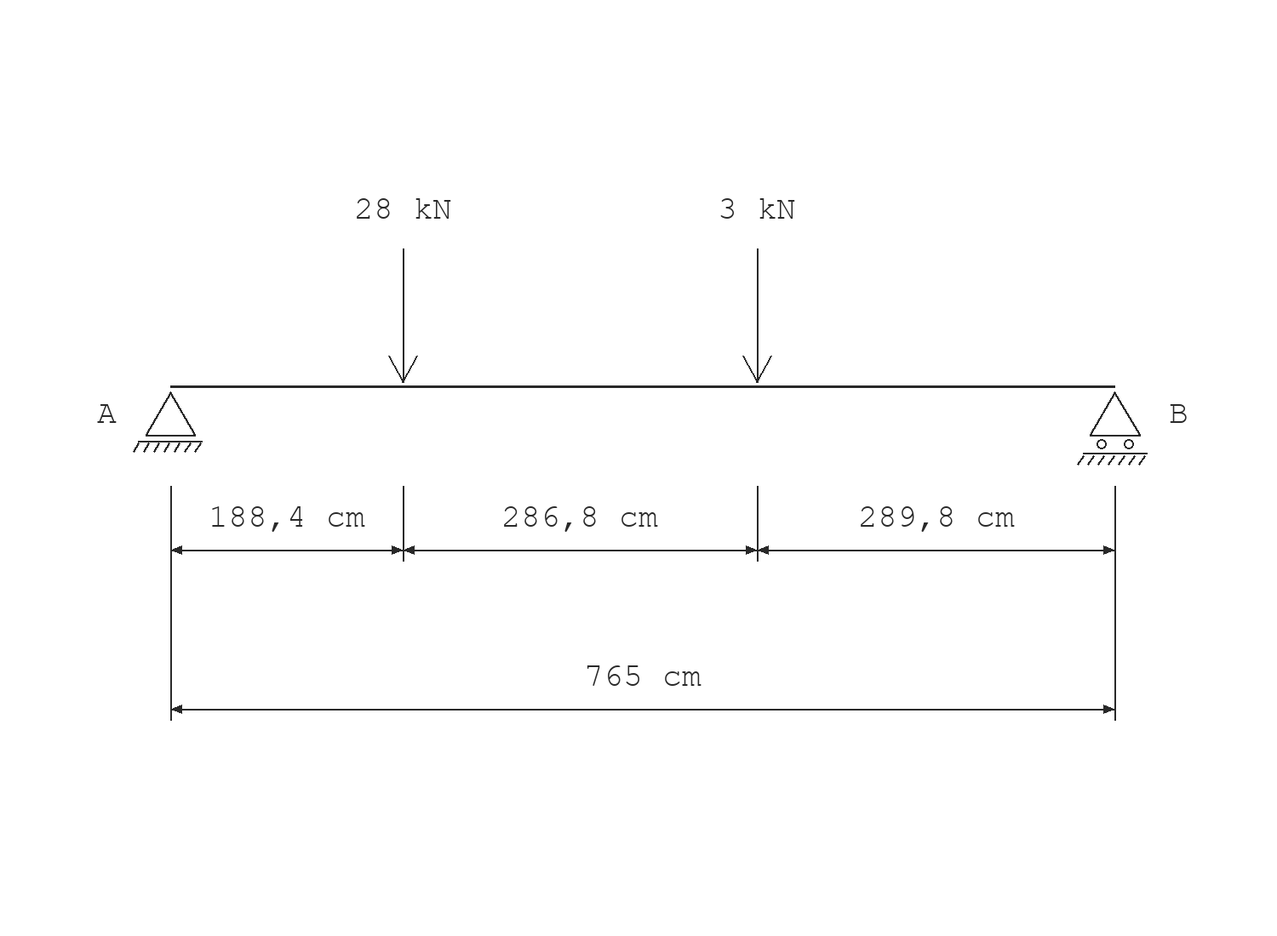pin_support: (133, 391, 203, 453)
point_load: (388, 248, 418, 383), (742, 248, 772, 383)
roller_support: (1077, 391, 1148, 465)
